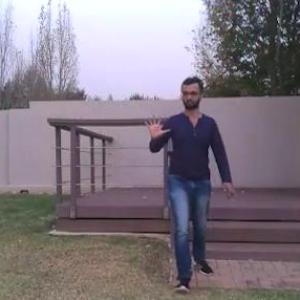follow_hand: (143, 109, 173, 142)
